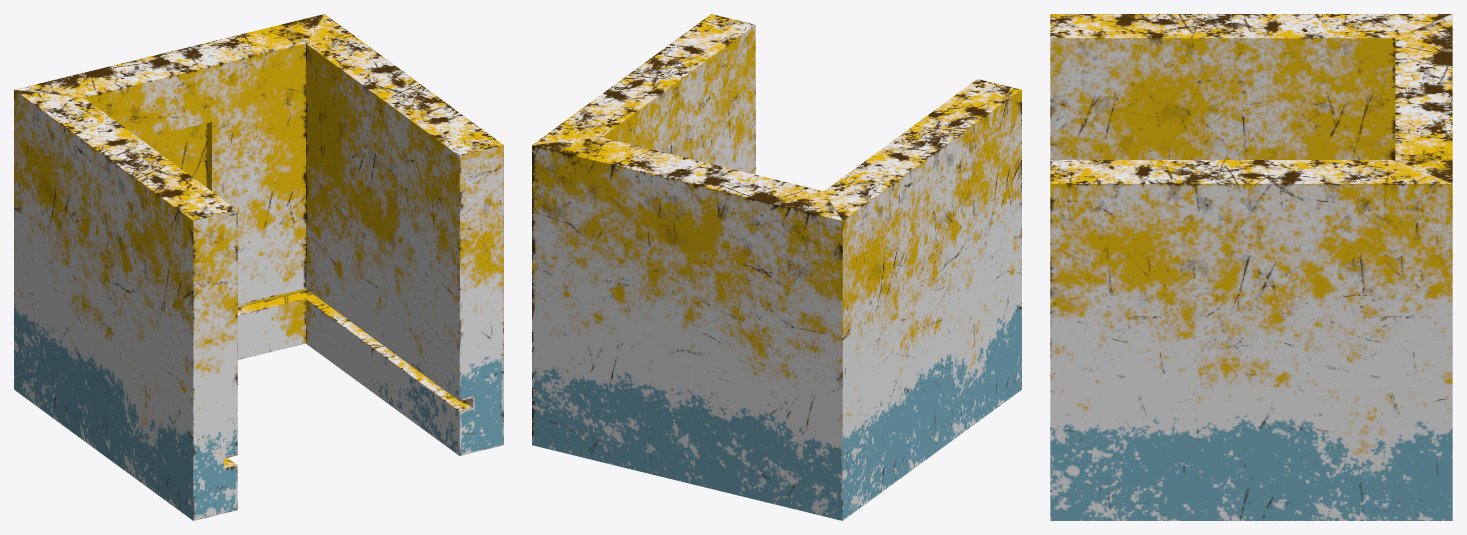
The model's file is Modular_Dungeon_Wall_U-Form.fbx.
3 renders of one model, left to right at view 1: azimuth 30°, elevation 25°; view 2: azimuth 150°, elevation 25°; view 3: azimuth 270°, elevation 25°, orthographic. The views are drawn at different scales.
Parts seen in each view (by area): view 1: U-Form_base; view 2: U-Form_base; view 3: U-Form_base.
Part boxes in pixels (box(x1,y1,x2,y2)): U-Form_base: box(14, 14, 503, 520); U-Form_base: box(532, 14, 1021, 520); U-Form_base: box(1050, 14, 1452, 520).
Size of the model in its own units: 280 by 259 by 280.
